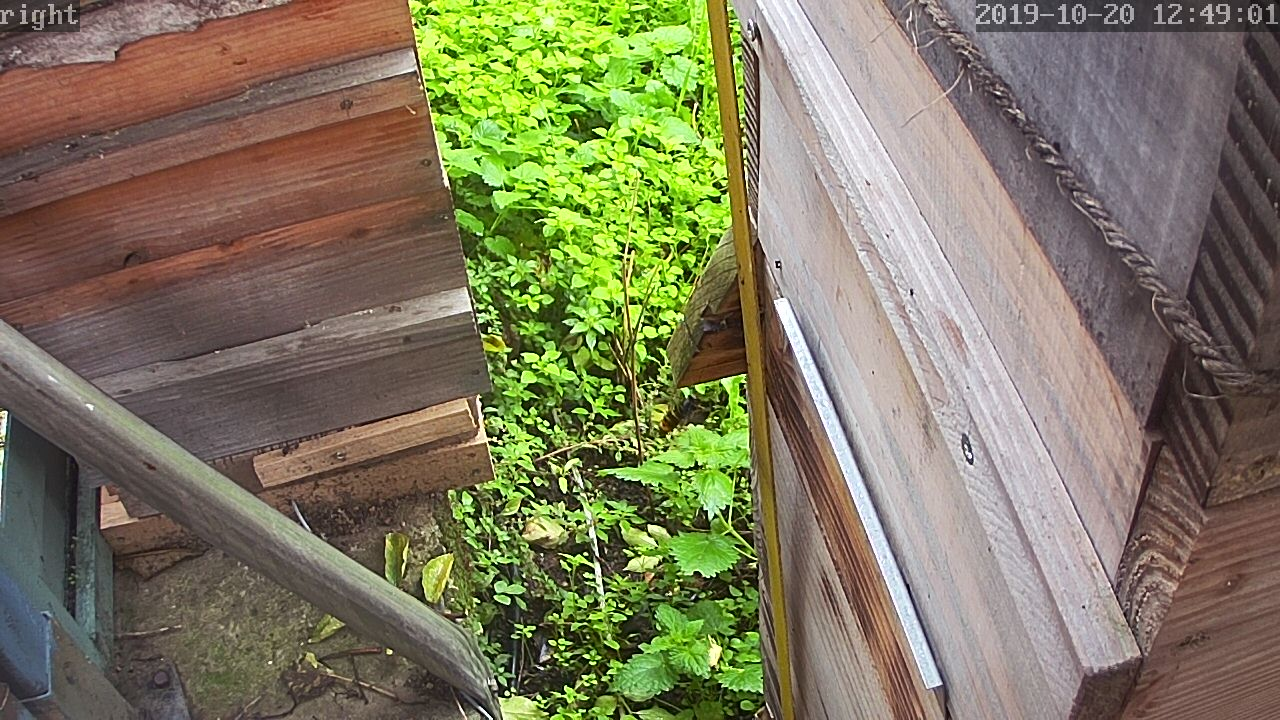hornet: (664, 385, 706, 438)
